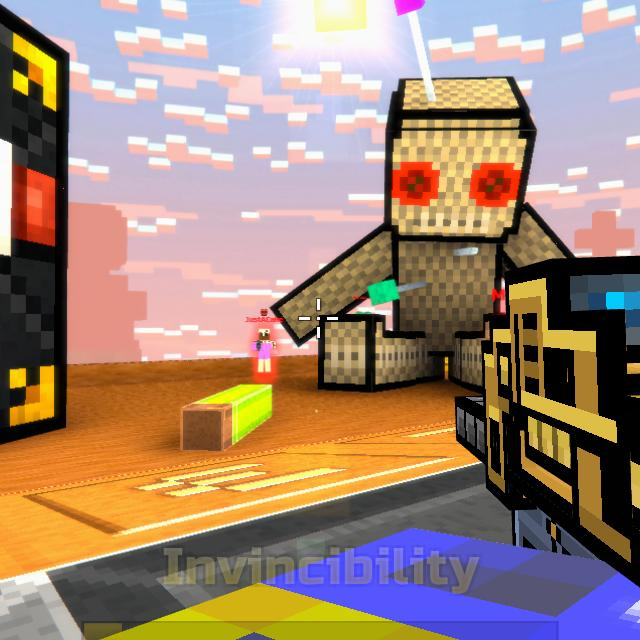Enemy: (254, 329, 277, 373)
